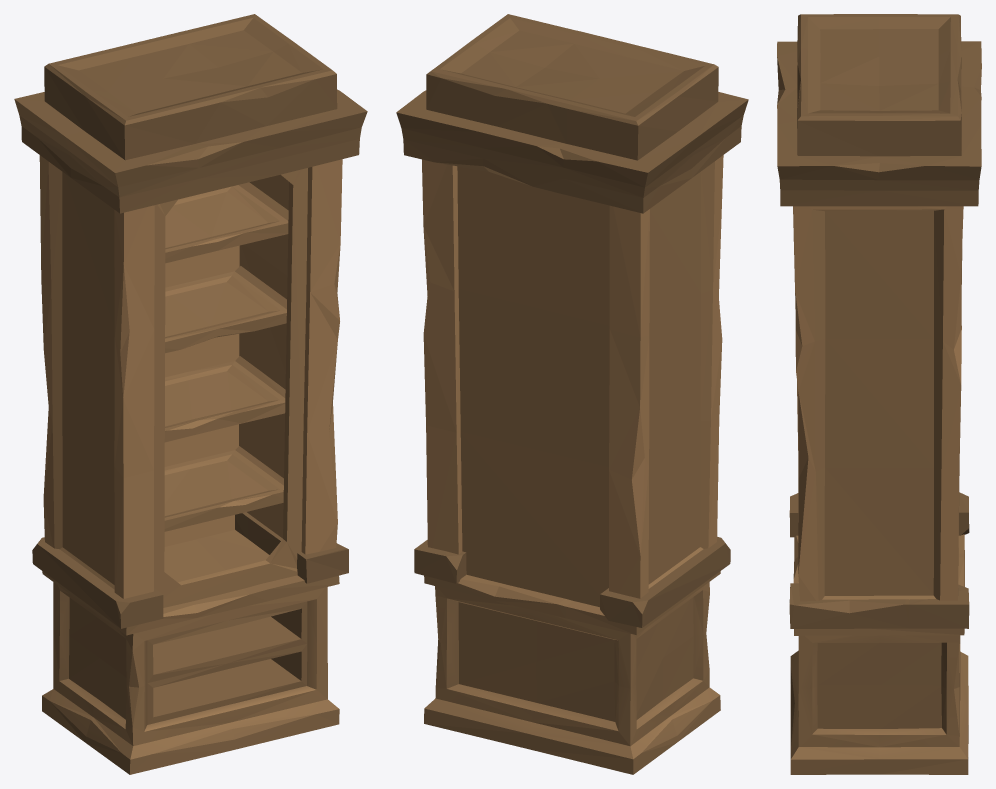
File: SFHW_Shelving_003.fbx
3 views of the same model, side by side, from view 1: azimuth 30°, elevation 25°; view 2: azimuth 150°, elevation 25°; view 3: azimuth 270°, elevation 25° (orthographic).
Parts seen in each view (by area): view 1: SFHW_Shelving_003; view 2: SFHW_Shelving_003; view 3: SFHW_Shelving_003.
Part boxes in pixels (x1,y1,x2,y2): SFHW_Shelving_003: (14,14,367,774); SFHW_Shelving_003: (396,14,748,774); SFHW_Shelving_003: (777,14,981,774).
Bounding box in the file's own units: 109 × 268 × 75.59.
